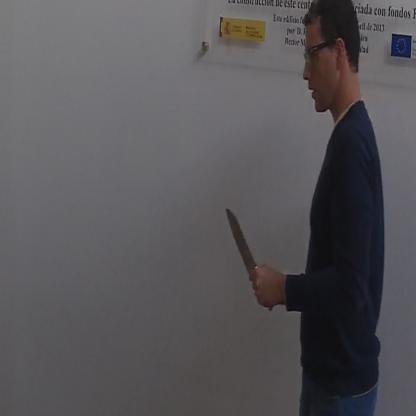knife: (222, 199, 274, 315)
